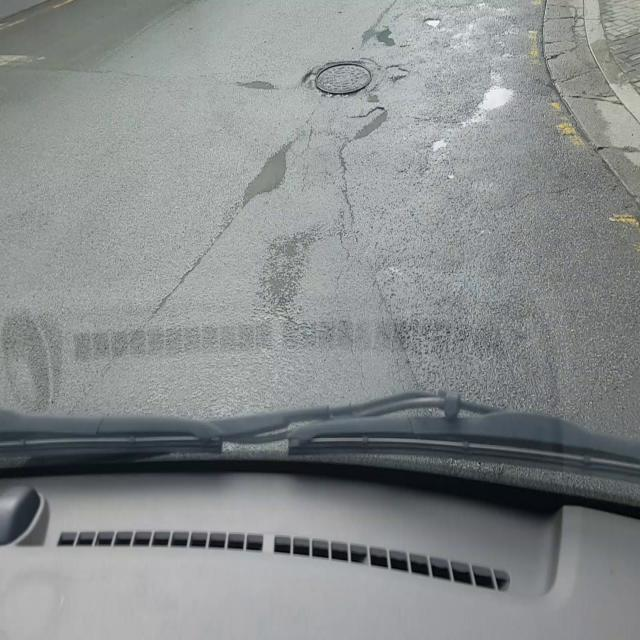Pothole: (302, 58, 373, 98)
